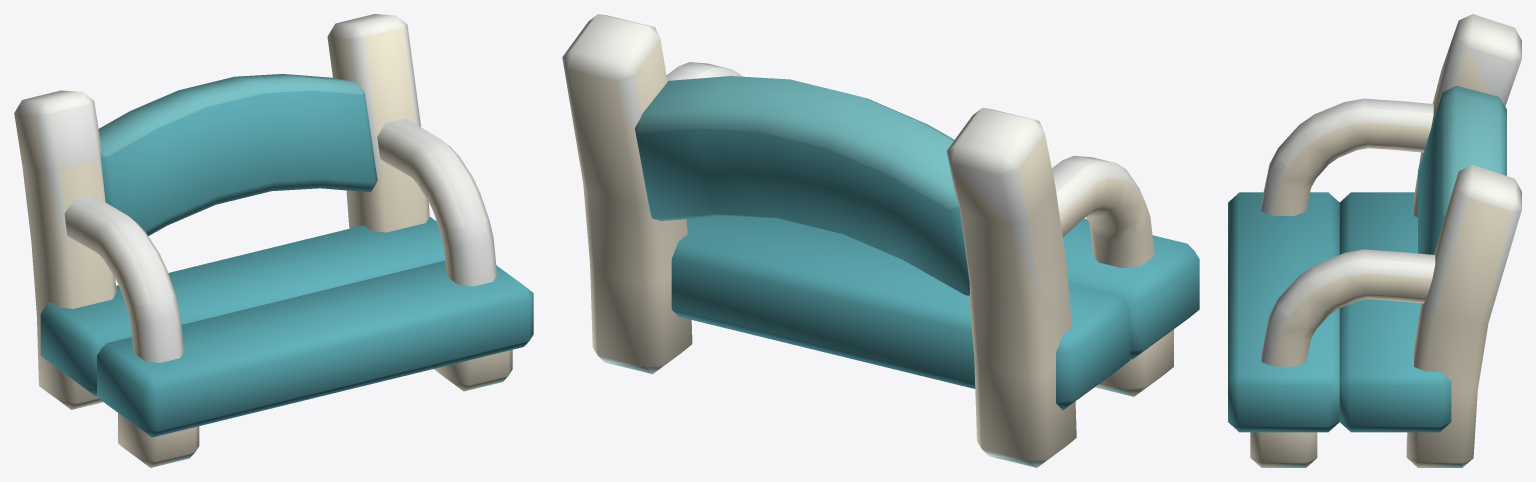
The model's file is itch_tiny_homely_house_bench_a.glb.
The picture shows the model from 3 angles, left to right: view 1: azimuth 30°, elevation 25°; view 2: azimuth 150°, elevation 25°; view 3: azimuth 270°, elevation 25°; orthographic projection. The views are drawn at different scales.
Parts seen in each view (by area): view 1: bench_A; view 2: bench_A; view 3: bench_A.
Part boxes in pixels (left/top/right/bottom): bench_A: left=14, top=14, right=533, bottom=467; bench_A: left=562, top=14, right=1199, bottom=467; bench_A: left=1228, top=14, right=1521, bottom=467.
Bounding box in the file's own units: 0.96 × 0.6749 × 0.632.
